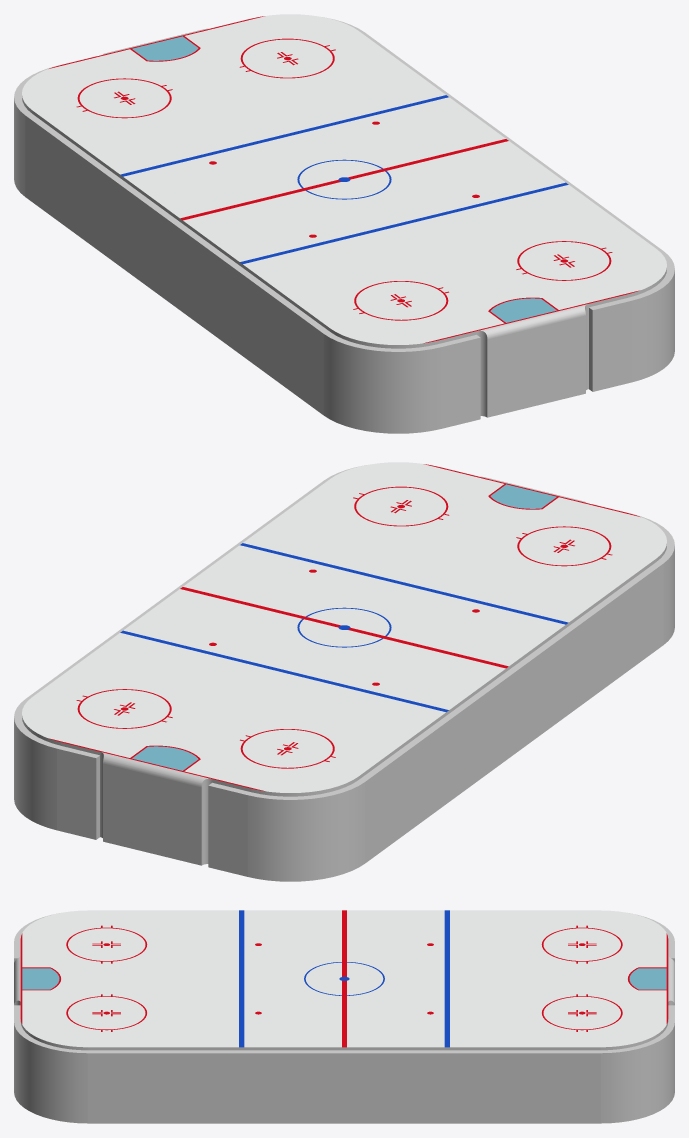
The picture shows the model from 3 angles, top to bottom: view 1: azimuth 30°, elevation 25°; view 2: azimuth 150°, elevation 25°; view 3: azimuth 270°, elevation 25°; orthographic projection. The views are drawn at different scales.
Visible parts, largest first — view 1: group_0 (×15); view 2: group_0 (×15); view 3: group_0 (×19).
Boxes of the visible parts, x1,y1,x2,y2 form: group_0 (×15): (14,14,674,433); group_0 (×15): (14,462,674,881); group_0 (×19): (14,910,674,1123).
Bounding box in the file's own units: 50 × 98 × 12.
